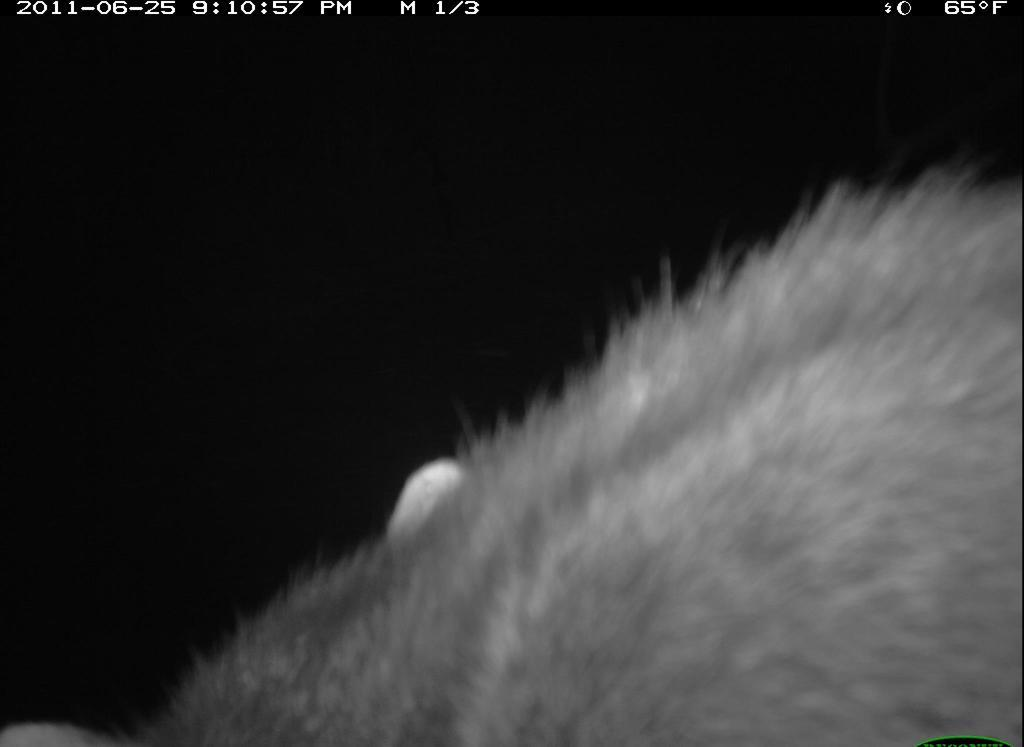raccoon: (3, 135, 1024, 747)
